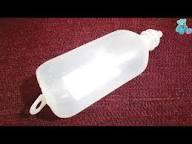Iv_Bottle: (30, 29, 161, 117)
